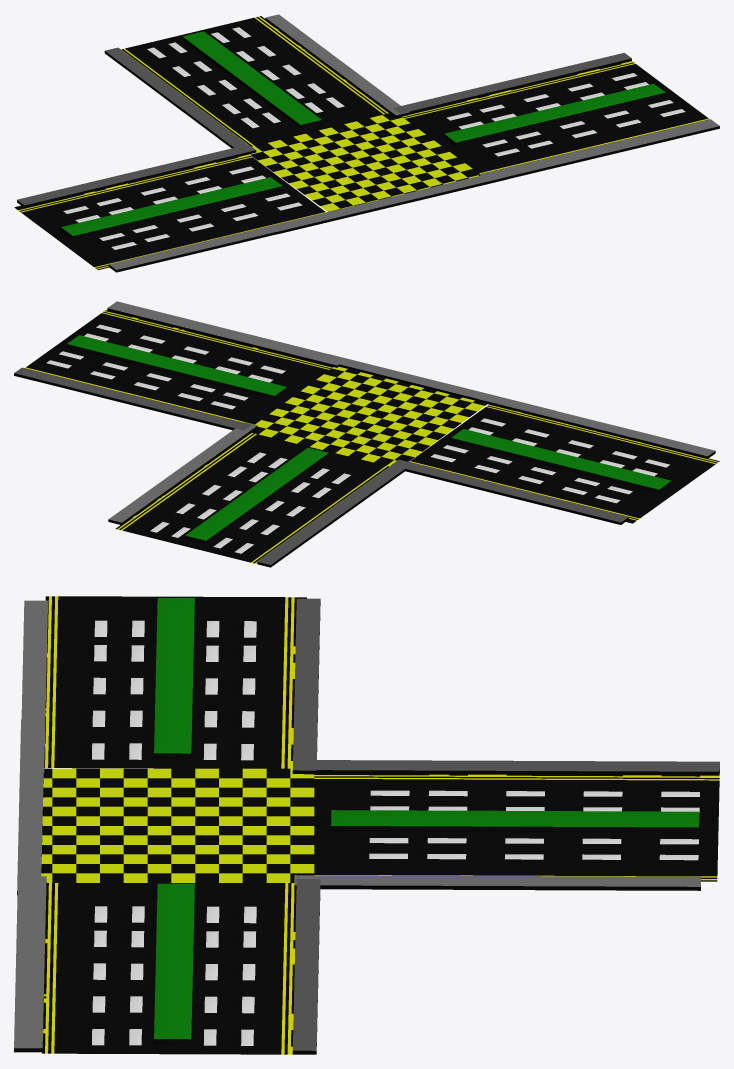
File: road_intersection_2.fbx
3 views of the same model, one above another, from view 1: azimuth 30°, elevation 25°; view 2: azimuth 150°, elevation 25°; view 3: azimuth 270°, elevation 25° (orthographic). The views are drawn at different scales.
Parts seen in each view (by area): view 1: Plane.010, Plane.003, Plane.004, Plane, Plane.006, Plane.002, Plane.005, Plane.007, Plane.011, Plane.012, Plane.001; view 2: Plane.010, Plane.003, Plane.004, Plane, Plane.006, Plane.002, Plane.005, Plane.011, Plane.012, Plane.007, Plane.001; view 3: Plane.003, Plane.004, Plane.010, Plane, Plane.011, Plane.012, Plane.006, Plane.005, Plane.002, Plane.007, Plane.001.
Part boxes in pixels (x1=…): Plane.010: x1=121, y1=16, x2=388, y2=146; Plane.003: x1=14, y1=154, x2=325, y2=269; Plane.004: x1=402, y1=61, x2=709, y2=173; Plane: x1=249, y1=113, x2=479, y2=211; Plane.006: x1=479, y1=119, x2=719, y2=181; Plane.002: x1=17, y1=144, x2=256, y2=207; Plane.005: x1=393, y1=52, x2=631, y2=113; Plane.007: x1=269, y1=176, x2=508, y2=234; Plane.011: x1=104, y1=47, x2=248, y2=148; Plane.012: x1=265, y1=14, x2=409, y2=117; Plane.001: x1=108, y1=209, x2=340, y2=272; Plane.010: x1=115, y1=432, x2=389, y2=563; Plane.003: x1=409, y1=404, x2=719, y2=523; Plane.004: x1=25, y1=310, x2=332, y2=424; Plane: x1=251, y1=366, x2=487, y2=466; Plane.006: x1=107, y1=301, x2=346, y2=367; Plane.002: x1=391, y1=459, x2=628, y2=524; Plane.005: x1=14, y1=367, x2=251, y2=430; Plane.011: x1=257, y1=464, x2=405, y2=567; Plane.012: x1=108, y1=422, x2=257, y2=525; Plane.007: x1=327, y1=353, x2=556, y2=416; Plane.001: x1=477, y1=399, x2=715, y2=458; Plane.003: x1=44, y1=596, x2=306, y2=768; Plane.004: x1=42, y1=883, x2=296, y2=1054; Plane.010: x1=314, y1=774, x2=719, y2=881; Plane: x1=41, y1=768, x2=314, y2=882; Plane.011: x1=313, y1=760, x2=719, y2=775; Plane.012: x1=294, y1=875, x2=700, y2=890; Plane.006: x1=14, y1=876, x2=46, y2=1052; Plane.005: x1=292, y1=879, x2=320, y2=1054; Plane.002: x1=292, y1=598, x2=320, y2=774; Plane.007: x1=17, y1=719, x2=44, y2=895; Plane.001: x1=21, y1=600, x2=47, y2=775.
Bounding box in the file's own units: 9092 × 64.07 × 5915.
